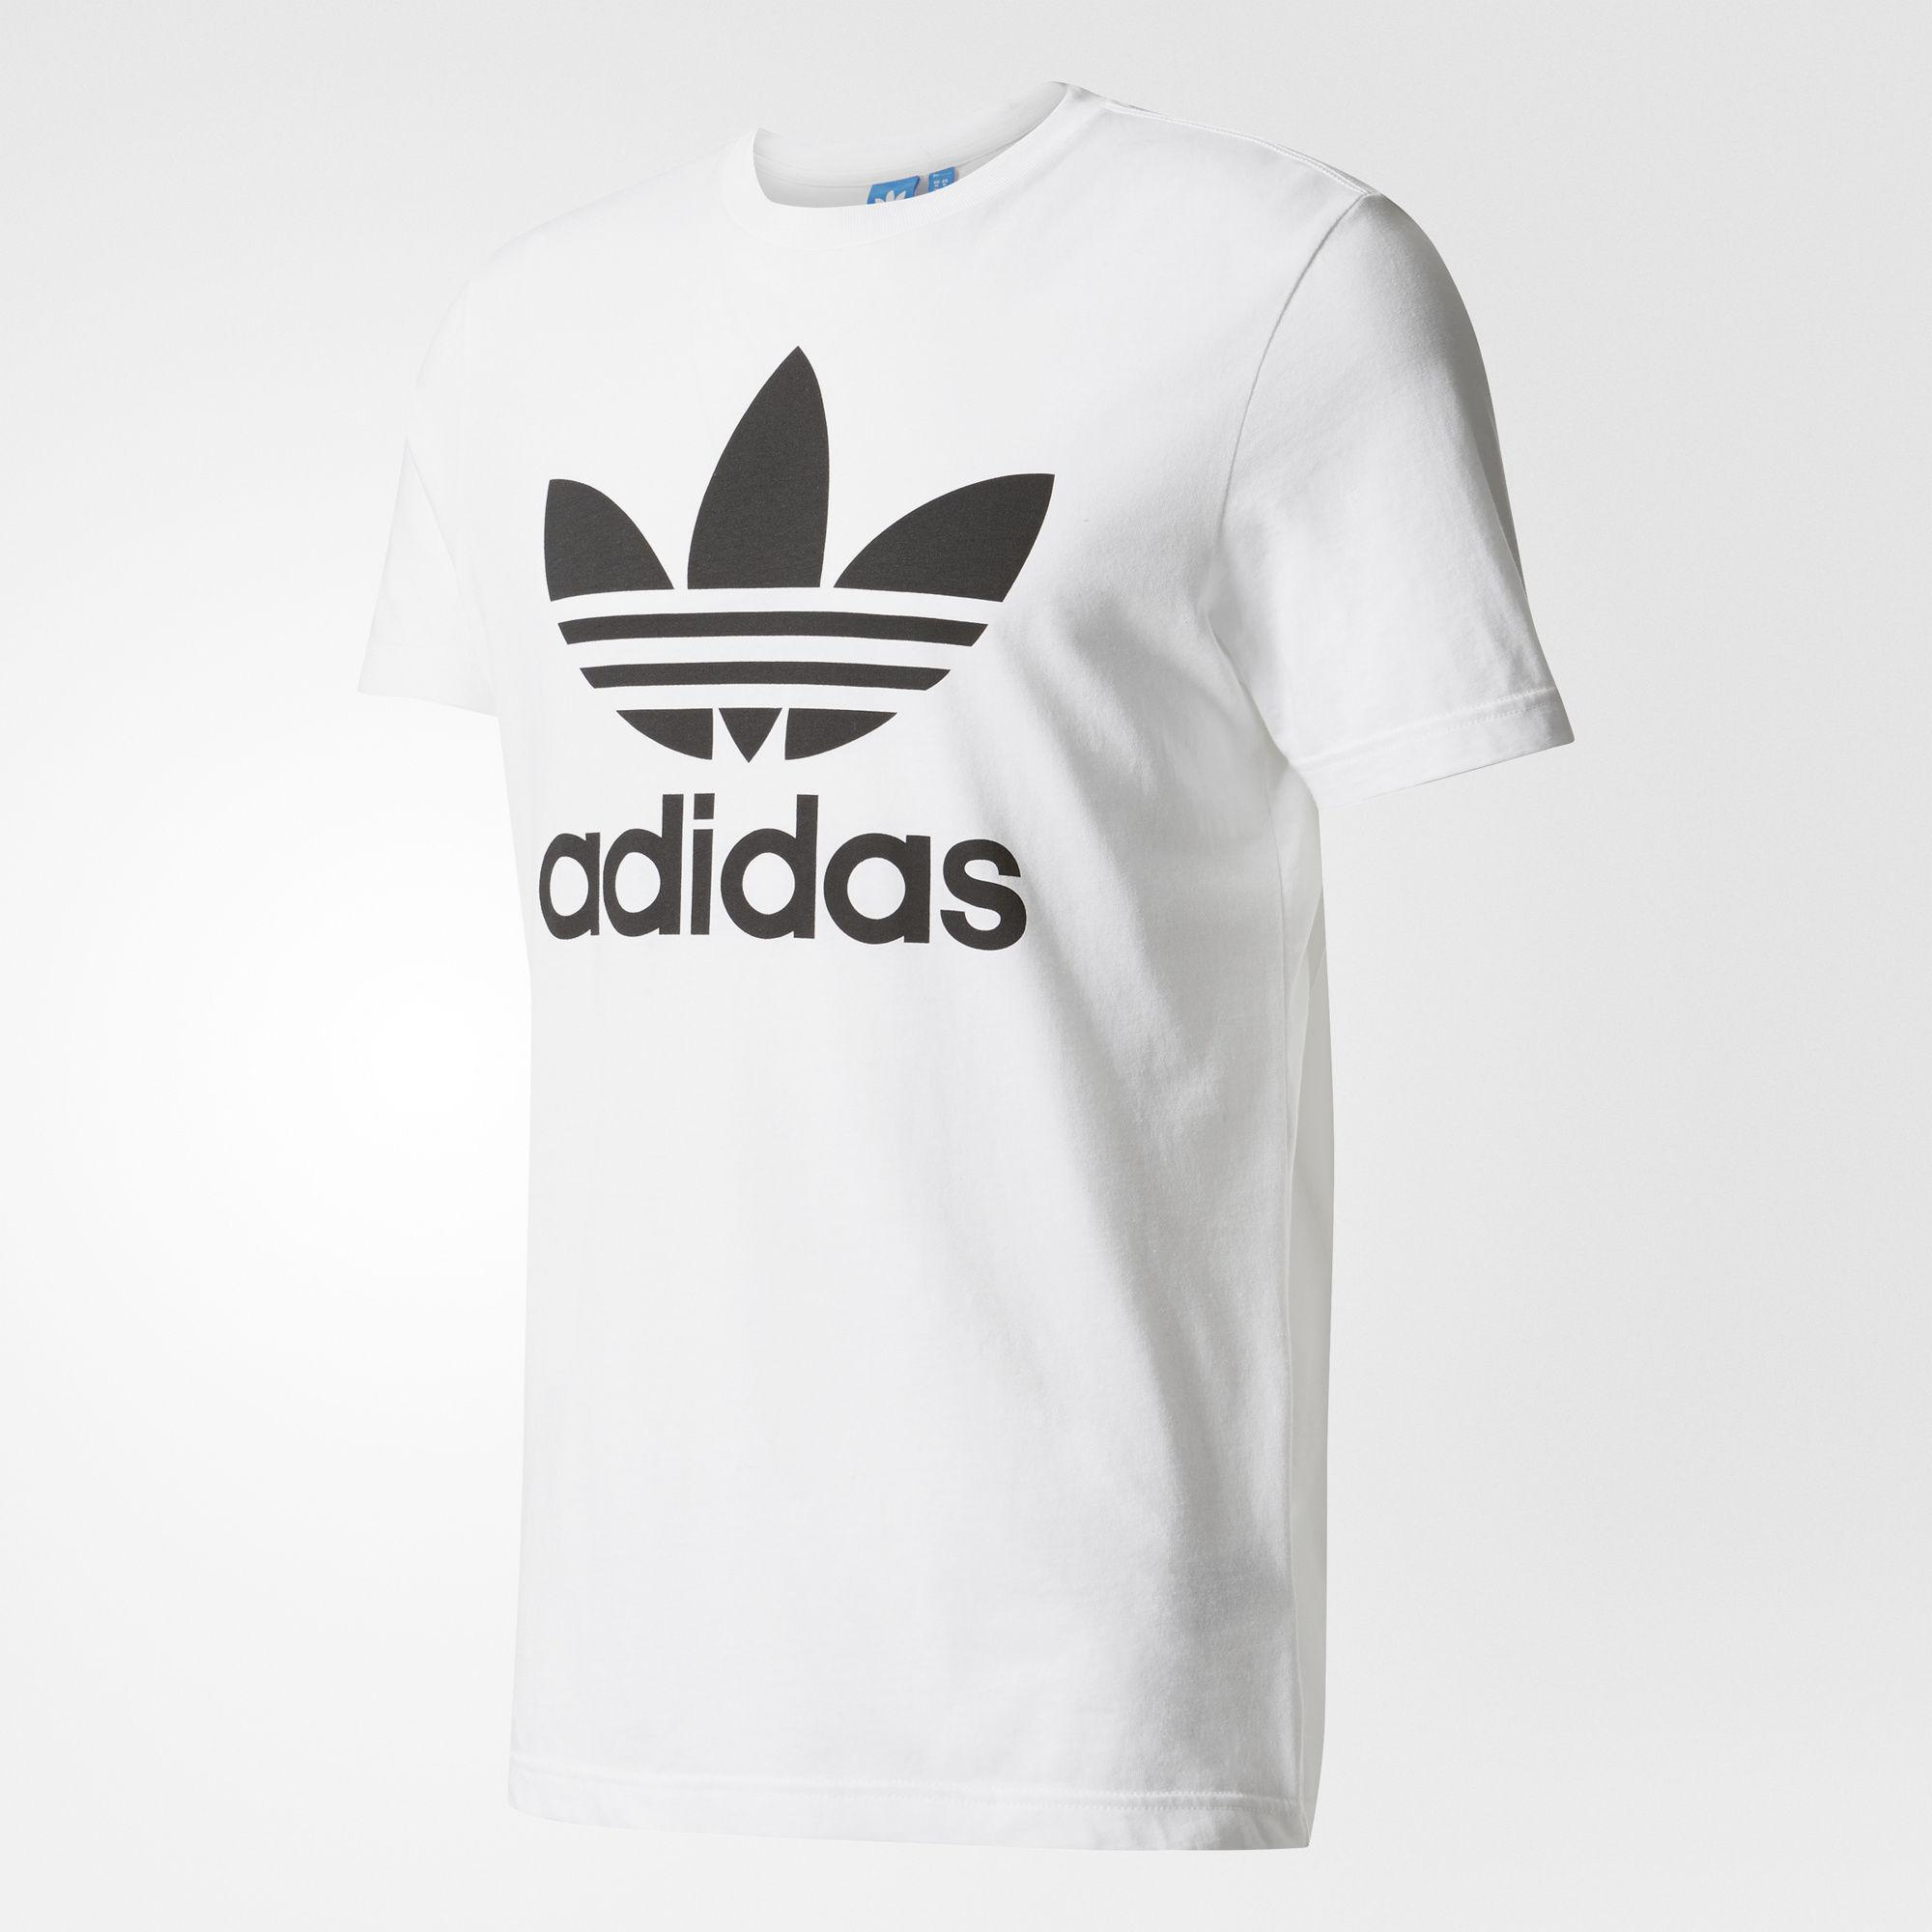teeshirt: (271, 85, 1626, 1877)
